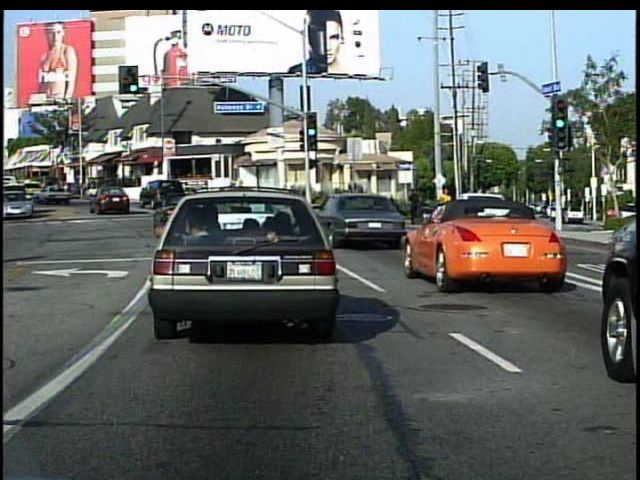person: (407, 188, 425, 228), (437, 187, 455, 225)
